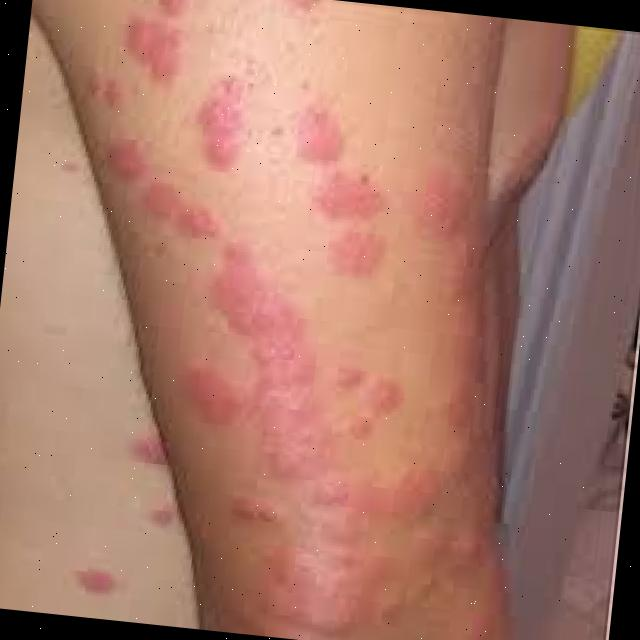kan emici bocekler: (190, 260, 401, 633), (270, 96, 415, 283), (364, 464, 515, 640), (94, 136, 230, 251), (420, 323, 506, 462), (397, 175, 485, 306), (121, 1, 197, 80), (185, 88, 250, 169), (331, 362, 400, 438)
